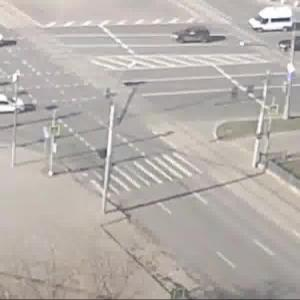car: (244, 9, 300, 32), (172, 25, 214, 46), (1, 95, 32, 115), (278, 35, 300, 51)
